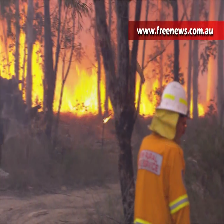fire_h: (1, 30, 204, 118)
fire_l: (104, 115, 112, 124)
